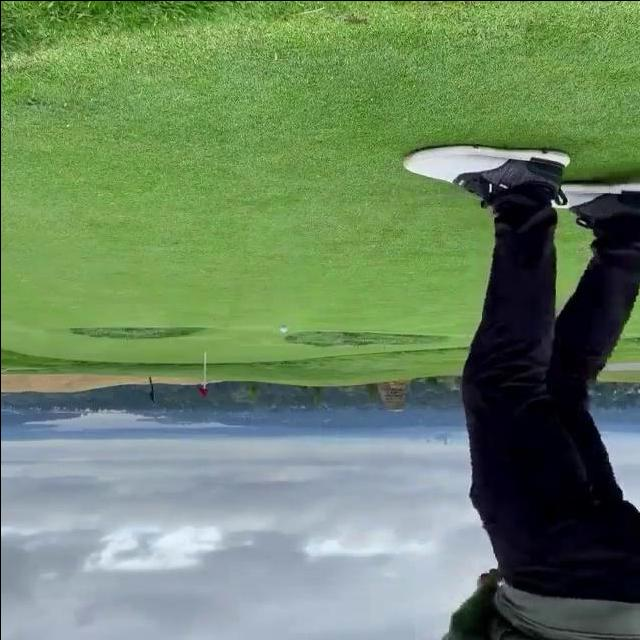golf ball: (279, 325, 287, 331)
